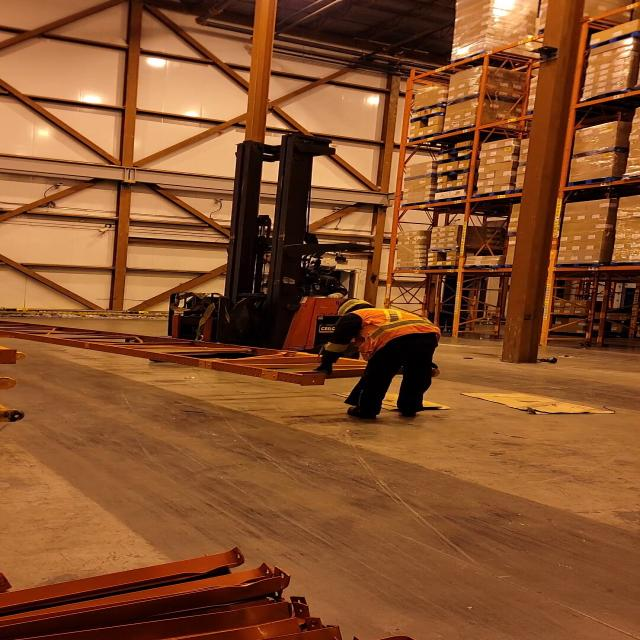forklift: (146, 142, 368, 376)
human: (314, 295, 443, 423), (269, 261, 350, 306)
objectofinterest: (0, 319, 423, 390), (459, 390, 617, 418), (327, 391, 453, 412)
